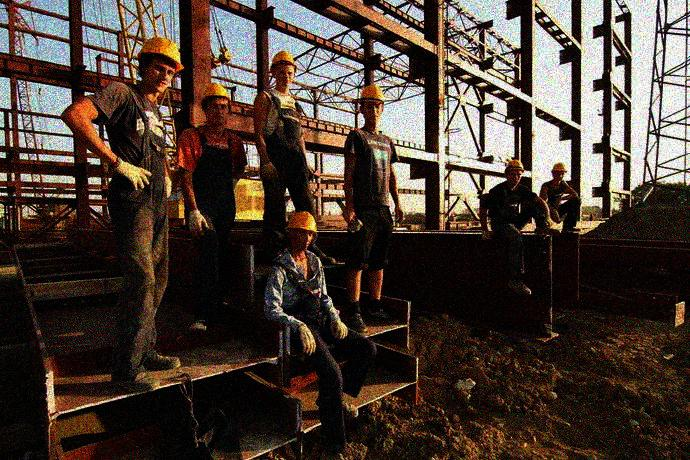helmet: (137, 35, 183, 93), (202, 81, 233, 124), (286, 210, 317, 249), (357, 84, 387, 124), (270, 49, 298, 87), (504, 158, 526, 187), (551, 161, 567, 183)
